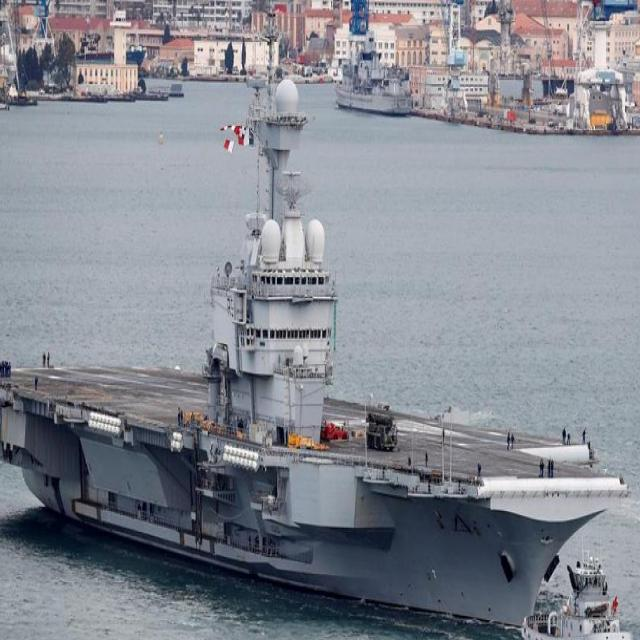Portanaves: (1, 1, 632, 640)
